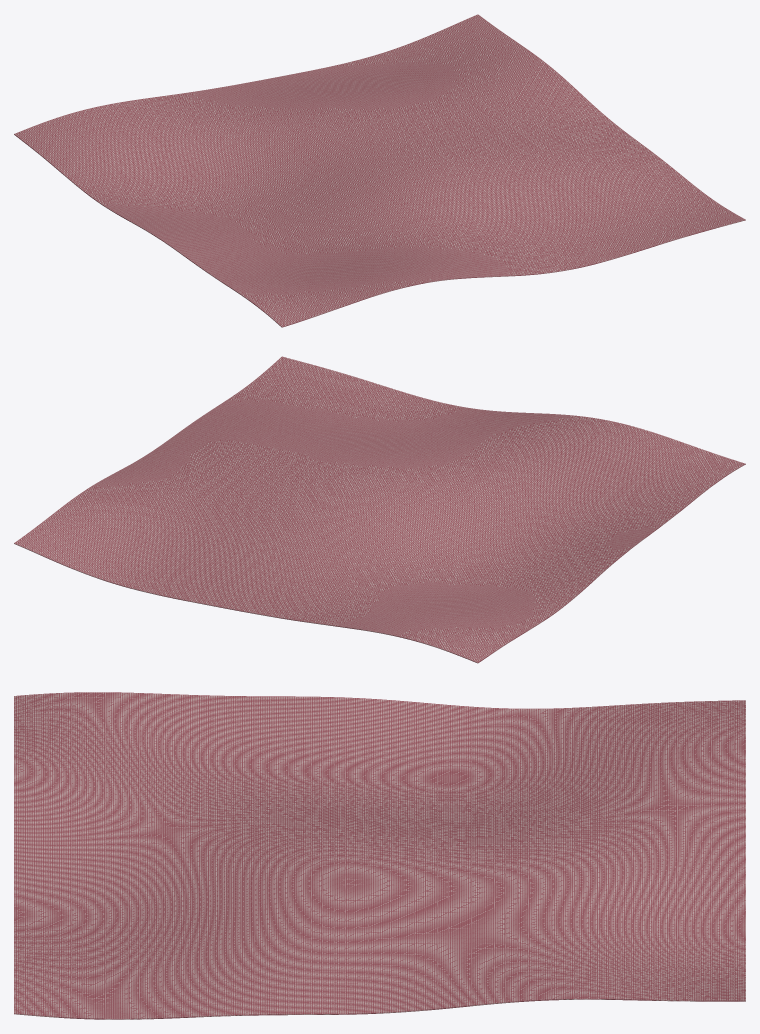
The model's file is picnic_cloth.obj.
3 renders of one model, top to bottom at view 1: azimuth 30°, elevation 25°; view 2: azimuth 150°, elevation 25°; view 3: azimuth 270°, elevation 25°, orthographic. The views are drawn at different scales.
Visible parts, largest first — view 1: PicnicCloth; view 2: PicnicCloth; view 3: PicnicCloth.
Boxes of the visible parts, x1,y1,x2,y2 form: PicnicCloth: [14, 14, 745, 327]; PicnicCloth: [14, 356, 745, 663]; PicnicCloth: [14, 692, 745, 1019].
Size of the model in its own units: 170 by 9.69 by 170.
Materials: 1 (1 with a texture image).
